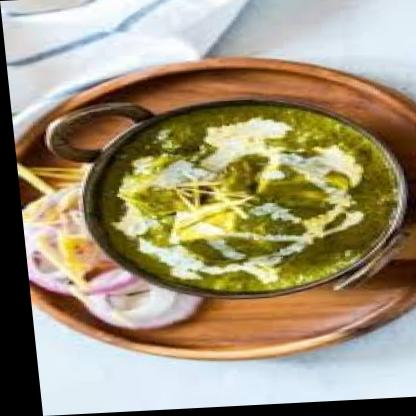palak_paneer: (88, 102, 403, 300)
